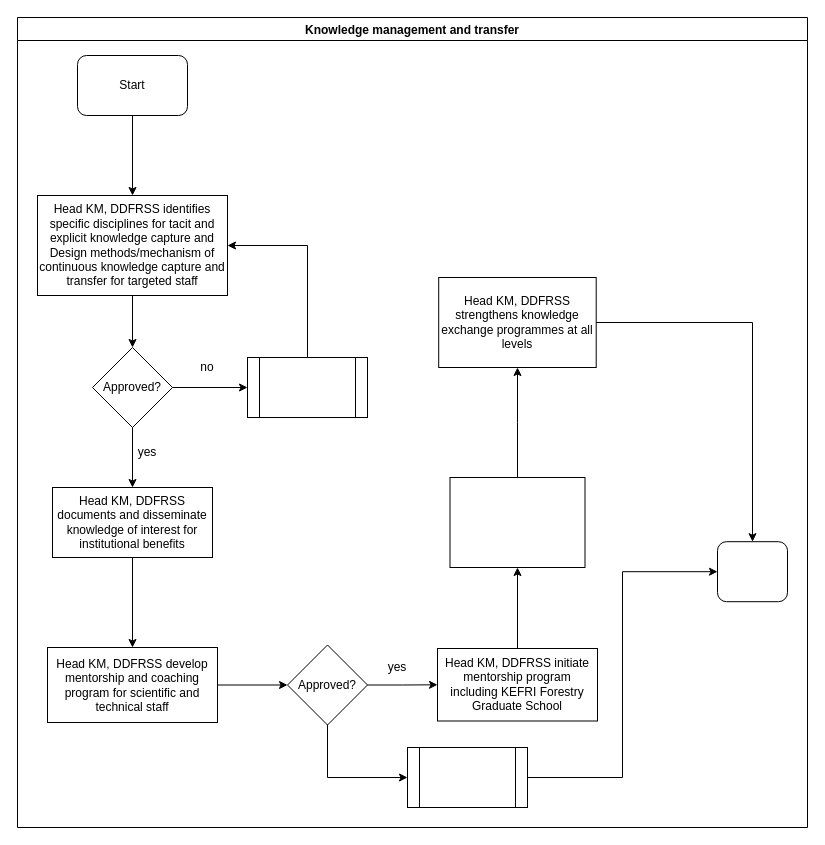
Some shapes in this 825 by 845 pixel diagram are drawn without their labels. Each missing label, with the centre of its shape:
"End" belongs at pixel 752 571.
"Head KM, DDFRSS capacitates research scientists on identified scientific needs" belongs at pixel 517 522.
"Notify Head KM" belongs at pixel 307 387.
"Notify KM" belongs at pixel 467 777.
